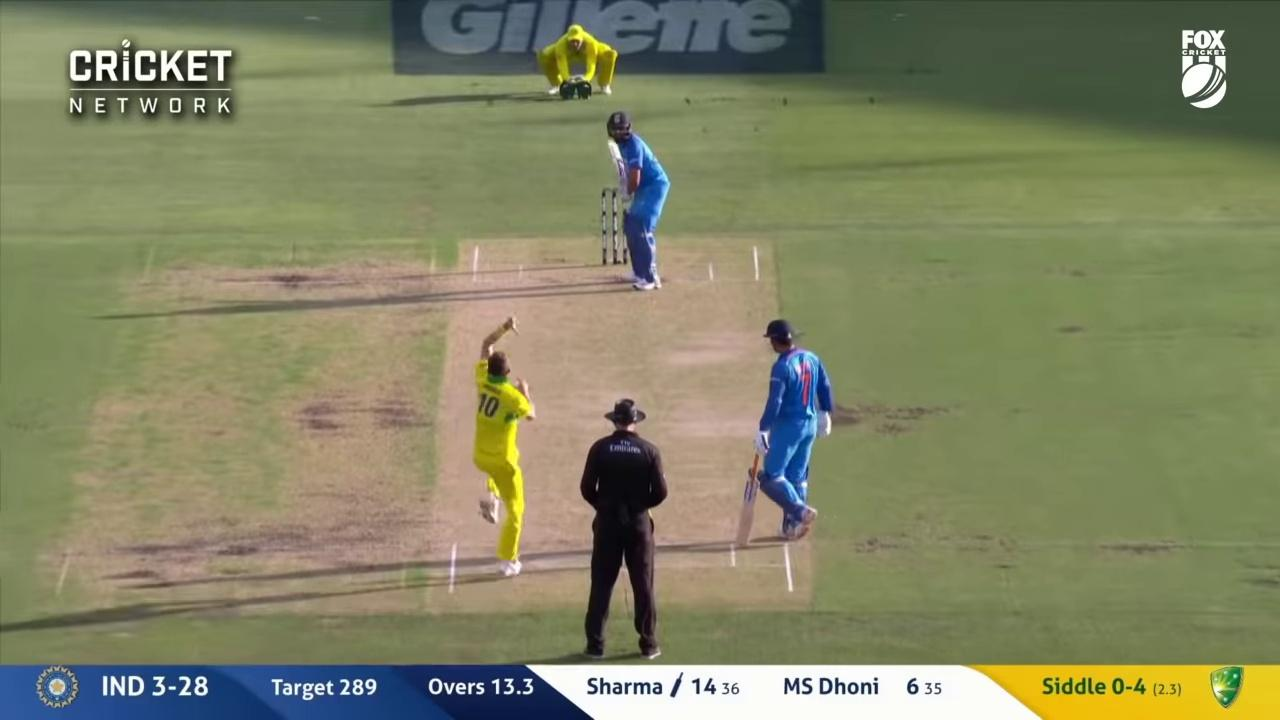batsman: (611, 121, 669, 287)
